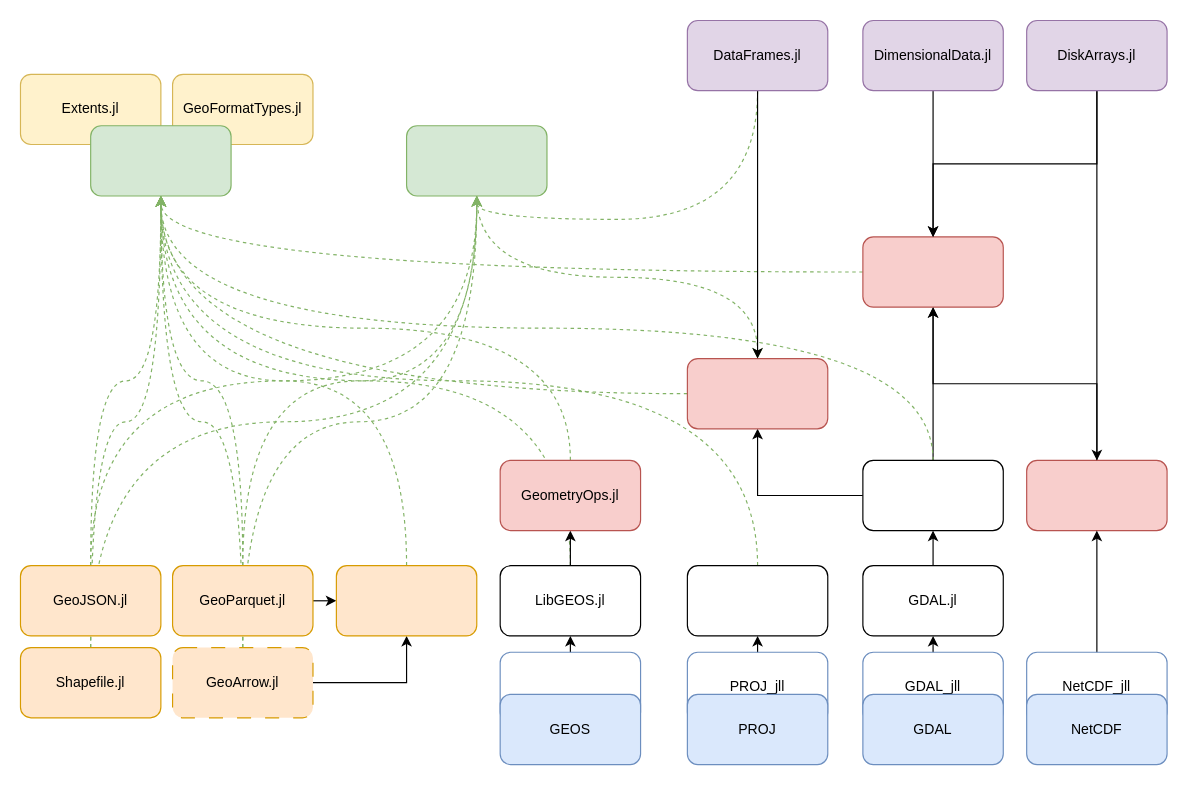
Some shapes in this 1188 by 785 pixel diagram are drawn without their labels. Each missing label, with the centre of its shape:
ArchGDAL.jl: (932,495)
GeoDataFrames.jl: (757,393)
GeoInterface.jl: (160,160)
GEOS_jll: (570,686)
NCDatasets.jl: (1096,495)
Proj.jl: (757,600)
Rasters.jl: (932,271)
Tables.jl: (476,160)
WellKnown Geometry.jl: (406,600)
